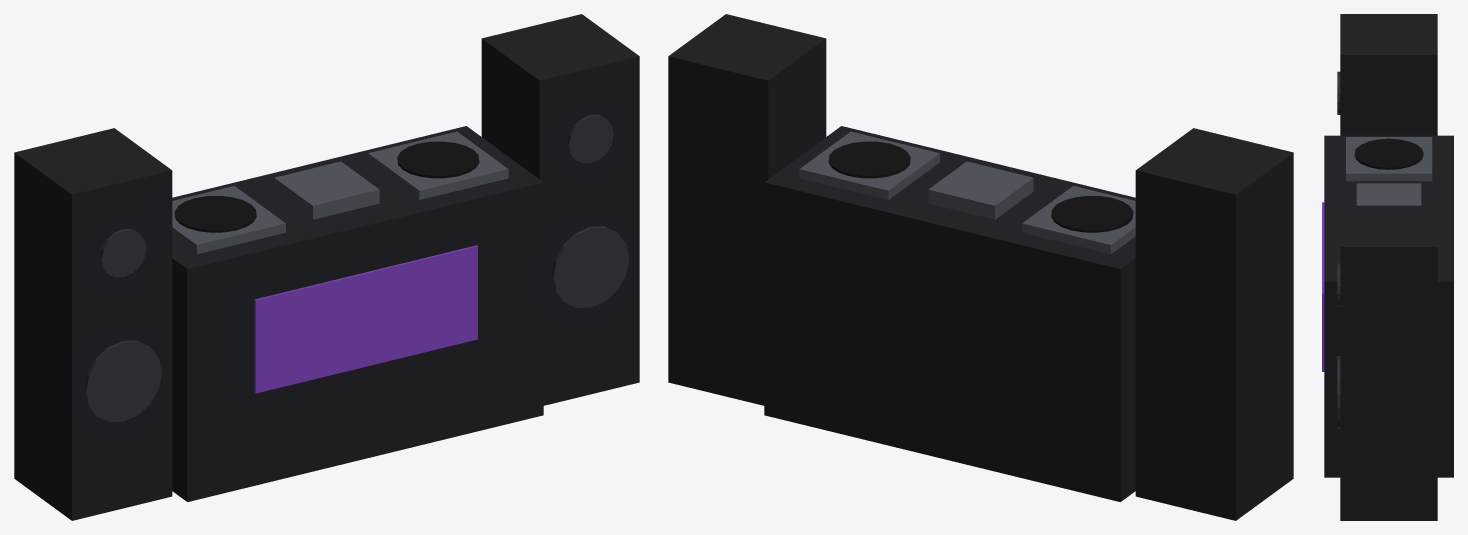
Rendered from dj_booth.glb.
3 renders of one model, left to right at view 1: azimuth 30°, elevation 25°; view 2: azimuth 150°, elevation 25°; view 3: azimuth 270°, elevation 25°, orthographic. The views are drawn at different scales.
Parts seen in each view (by area): view 1: speaker_dj_black, desk_dj_black, panel_dj_panel, speaker_dj_cone, deck_dj_grey, deck_dj_vinyl; view 2: speaker_dj_black, desk_dj_black, deck_dj_grey, deck_dj_vinyl; view 3: speaker_dj_black, desk_dj_black, deck_dj_grey, deck_dj_vinyl, speaker_dj_cone, panel_dj_panel.
Part boxes in pixels (bbox=[...]): speaker_dj_black: bbox=[14, 14, 639, 520]; desk_dj_black: bbox=[172, 126, 543, 501]; panel_dj_panel: bbox=[254, 245, 477, 393]; speaker_dj_cone: bbox=[84, 115, 629, 421]; deck_dj_grey: bbox=[172, 131, 508, 254]; deck_dj_vinyl: bbox=[174, 141, 479, 232]; speaker_dj_black: bbox=[668, 14, 1293, 520]; desk_dj_black: bbox=[764, 126, 1135, 501]; deck_dj_grey: bbox=[799, 131, 1135, 254]; deck_dj_vinyl: bbox=[828, 141, 1133, 232]; speaker_dj_black: bbox=[1340, 14, 1437, 520]; desk_dj_black: bbox=[1324, 135, 1453, 477]; deck_dj_grey: bbox=[1346, 137, 1432, 205]; deck_dj_vinyl: bbox=[1354, 138, 1423, 169]; speaker_dj_cone: bbox=[1337, 71, 1340, 429]; panel_dj_panel: bbox=[1322, 202, 1324, 371].
Bounding box in the file's own units: 2.55 × 1.4 × 0.61.
